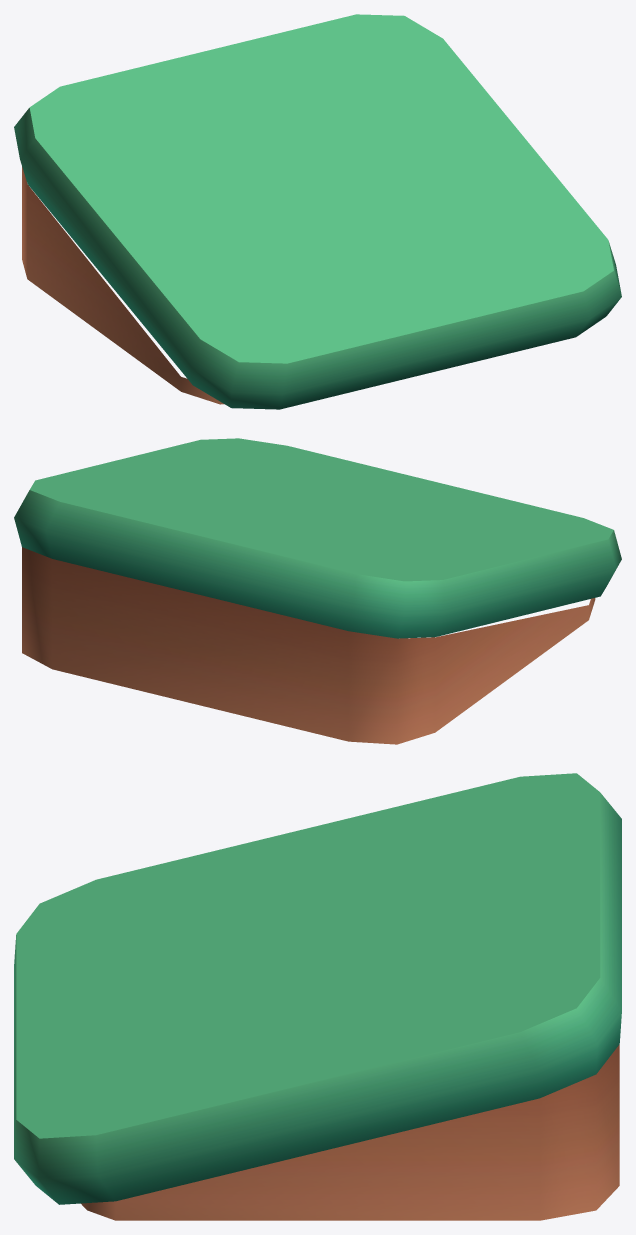
Rendered from kenney-platformer-block-grass-large-slope.glb.
The picture shows the model from 3 angles, top to bottom: view 1: azimuth 30°, elevation 25°; view 2: azimuth 150°, elevation 25°; view 3: azimuth 270°, elevation 25°; orthographic projection. The views are drawn at different scales.
Visible parts, largest first — view 1: block-grass-large-slope; view 2: block-grass-large-slope; view 3: block-grass-large-slope.
Boxes of the visible parts, x1=… form: block-grass-large-slope: x1=14, y1=14, x2=621, y2=409; block-grass-large-slope: x1=14, y1=438, x2=621, y2=744; block-grass-large-slope: x1=14, y1=773, x2=621, y2=1220.
Bounding box in the file's own units: 2.08 × 0.759 × 2.01.
Materials: 1 (1 with a texture image).
